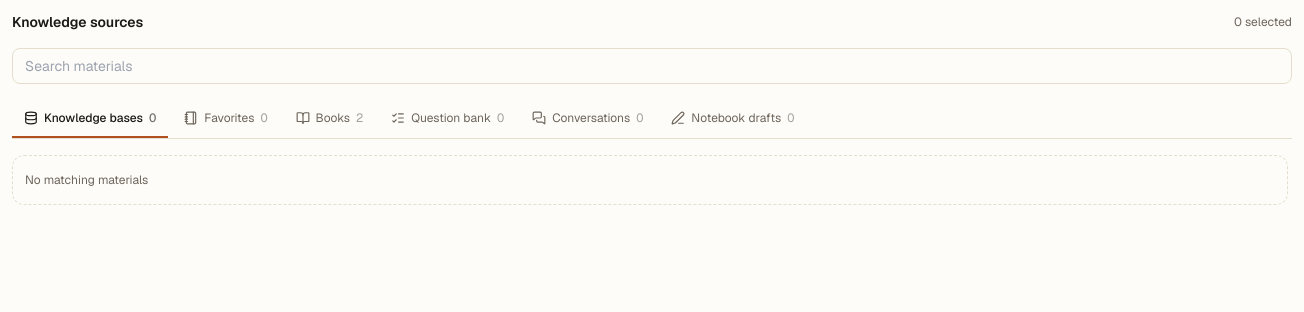
Scenario: preserves chosen sources while searching
Click the tab "Books 2" at (329, 119), box [284, 100, 375, 138]
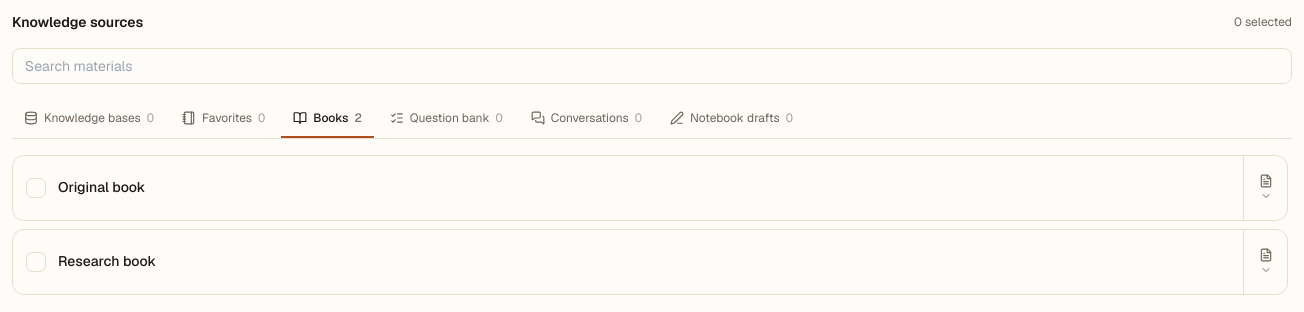
Click the button "Original book" at (102, 187), box [13, 156, 1243, 220]
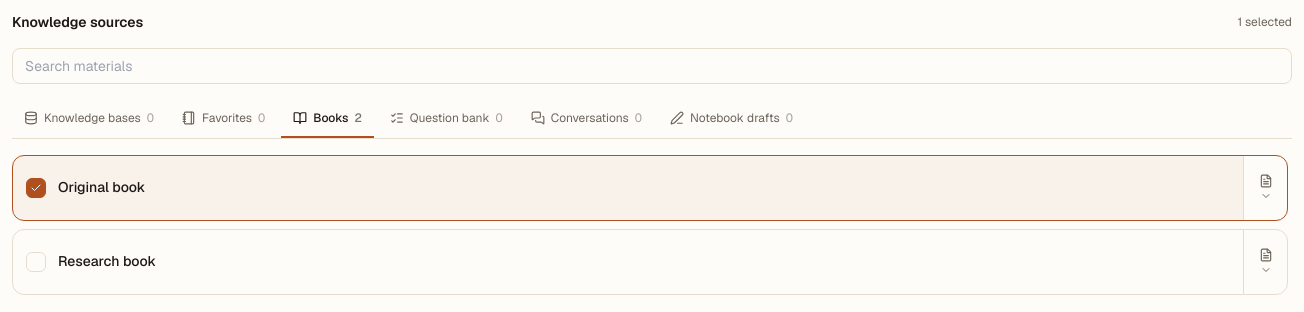
Click the button "Research book" at (107, 261), box [13, 230, 1243, 294]
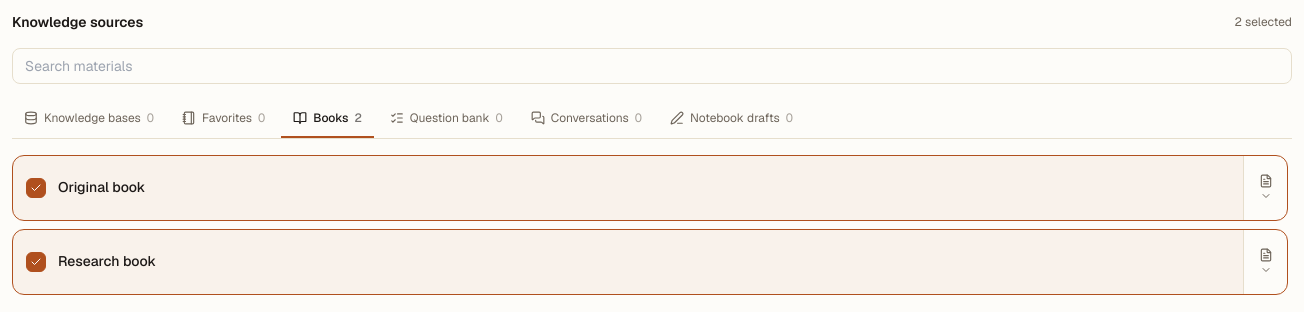
Result: the text "2 selected" is shown at [1235, 14, 1292, 30]
Type "Original" into the search field labelled "Search materials" at (652, 66), box [12, 48, 1292, 84]
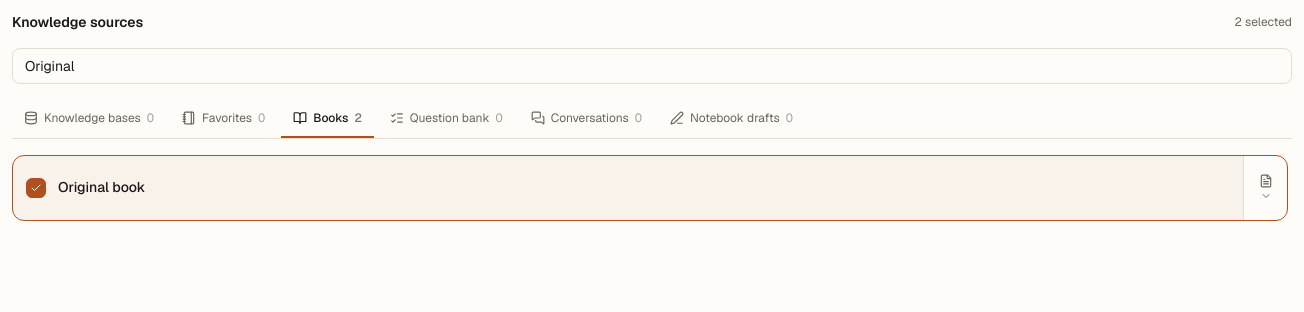
Result: the button "Research book" is gone
